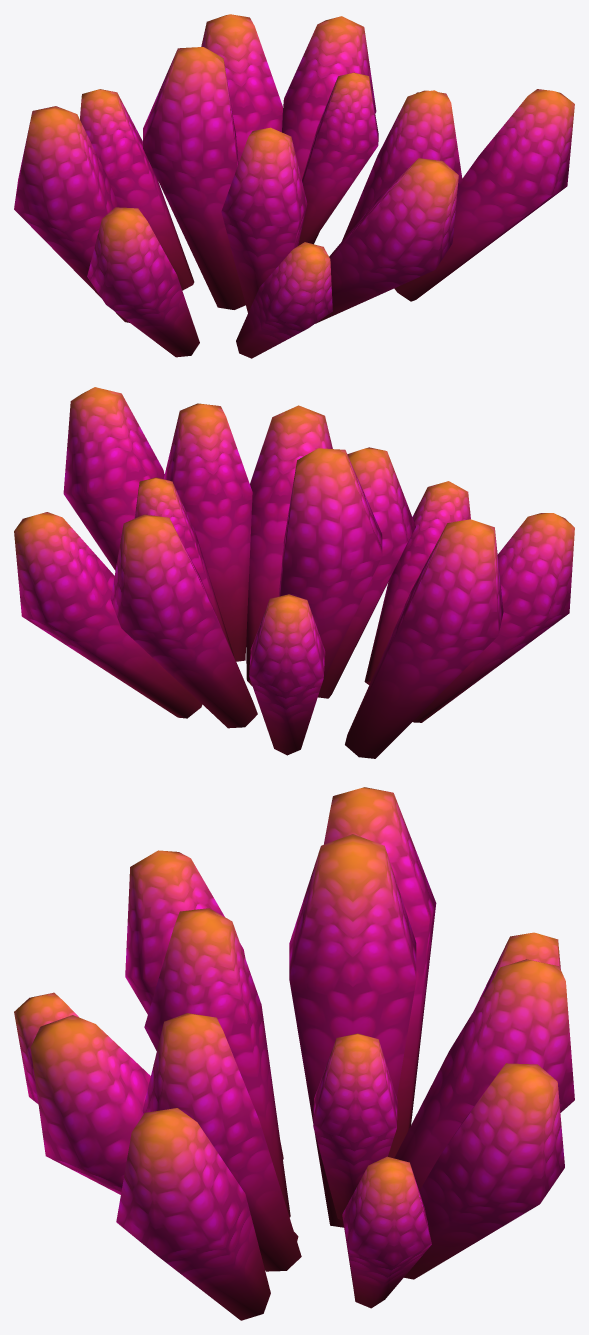
File: Coral_11c.FBX
3 views of the same model, one above another, from view 1: azimuth 30°, elevation 25°; view 2: azimuth 150°, elevation 25°; view 3: azimuth 270°, elevation 25° (orthographic). The views are drawn at different scales.
Visible parts, largest first — view 1: Coral_11c; view 2: Coral_11c; view 3: Coral_11c.
Boxes of the visible parts, x1,y1,x2,y2 form: Coral_11c: (14, 14, 574, 358); Coral_11c: (14, 387, 574, 758); Coral_11c: (14, 787, 574, 1320).
Size of the model in its own units: 46.71 by 25.41 by 34.9.
